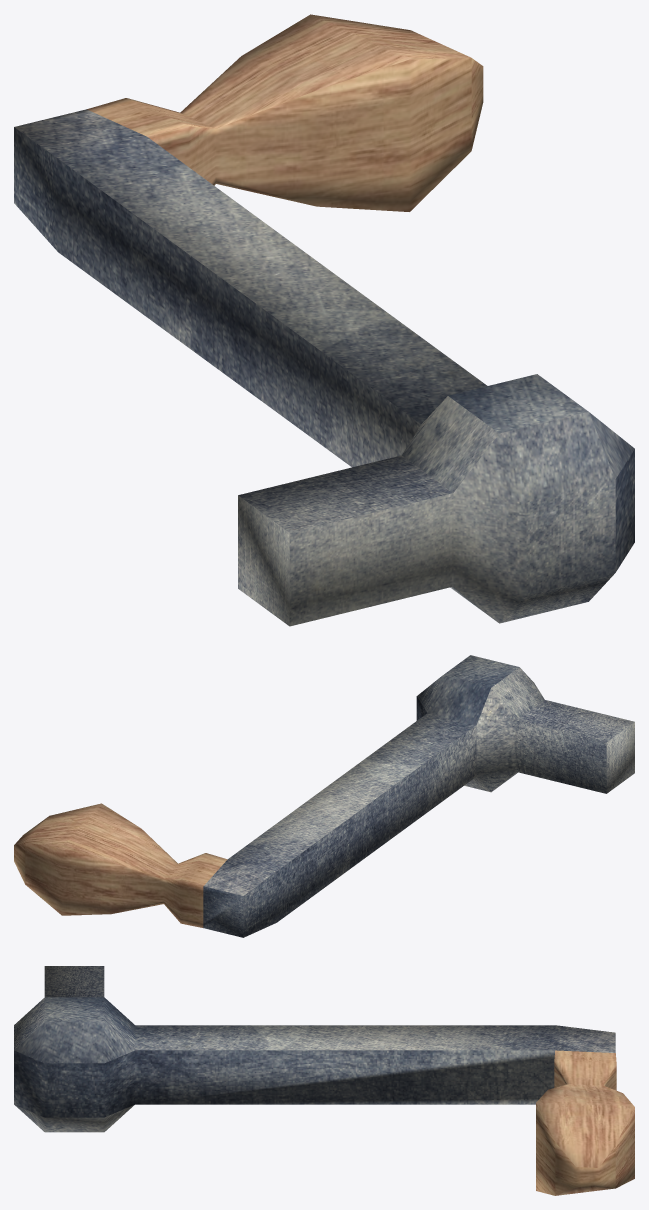
File: crank_metal.glb
3 renders of one model, top to bottom at view 1: azimuth 30°, elevation 25°; view 2: azimuth 150°, elevation 25°; view 3: azimuth 270°, elevation 25°, orthographic. The views are drawn at different scales.
Parts seen in each view (by area): view 1: Cube; view 2: Cube; view 3: Cube.
Part boxes in pixels (bbox=[...]): Cube: bbox=[14, 14, 634, 626]; Cube: bbox=[14, 655, 634, 937]; Cube: bbox=[14, 966, 634, 1195].
Size of the model in its own units: 7.19 by 2 by 10.24.
Materials: 1 (1 with a texture image).
